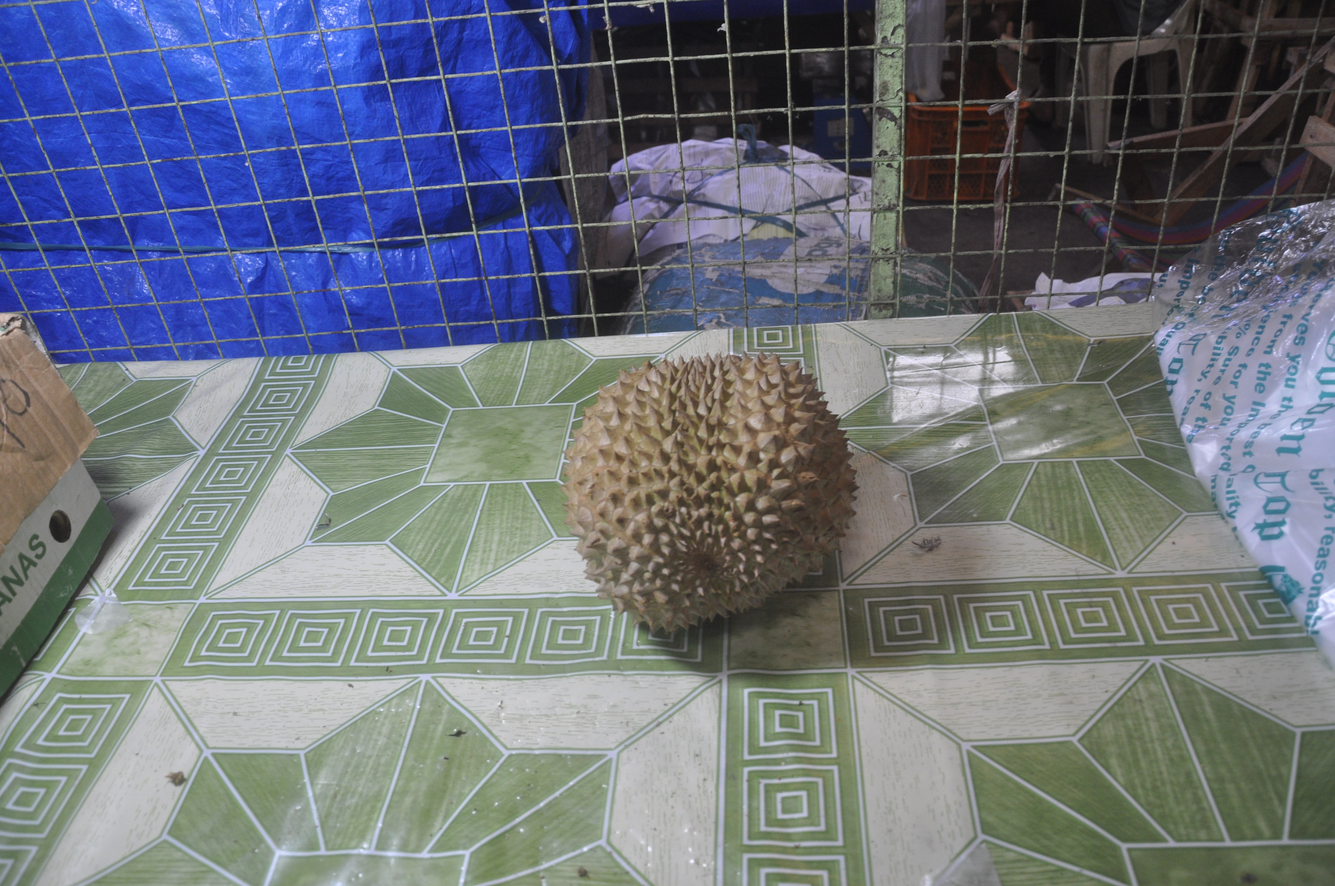mature: (563, 355, 857, 632)
